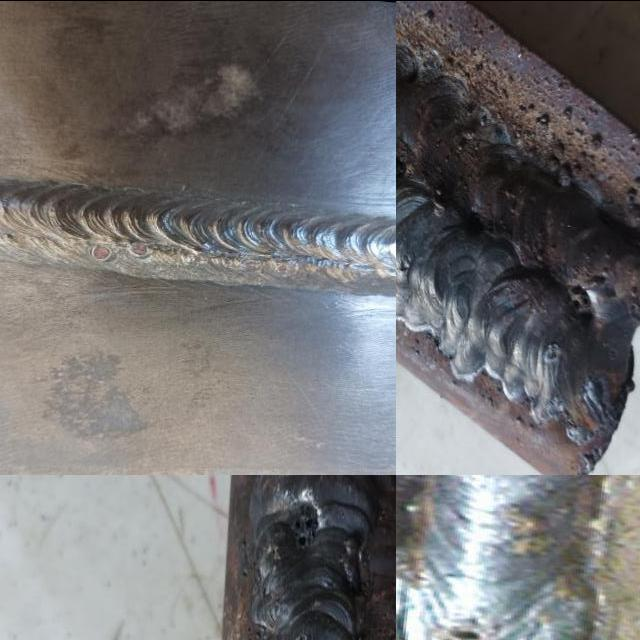defect: (286, 494, 323, 555), (562, 275, 598, 332), (435, 624, 495, 640), (463, 211, 486, 241), (83, 243, 114, 263), (233, 252, 260, 272), (270, 254, 294, 274), (125, 239, 153, 256), (543, 343, 558, 366), (296, 627, 314, 640), (0, 231, 15, 243)
